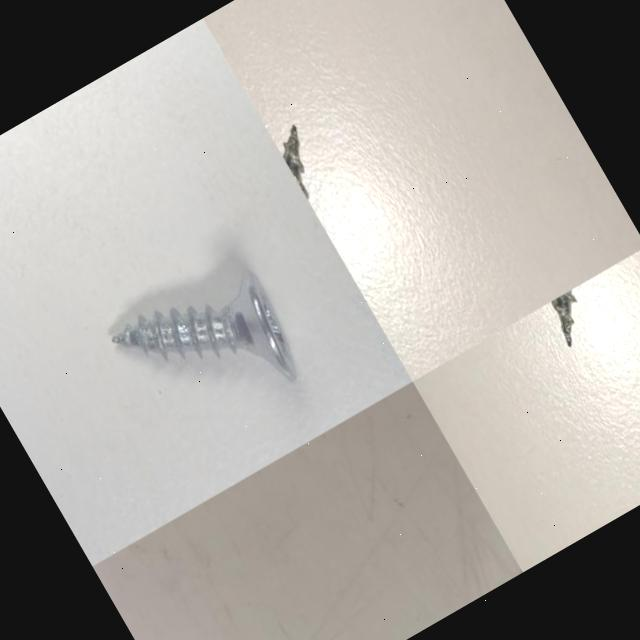Screw: (113, 272, 297, 382)
